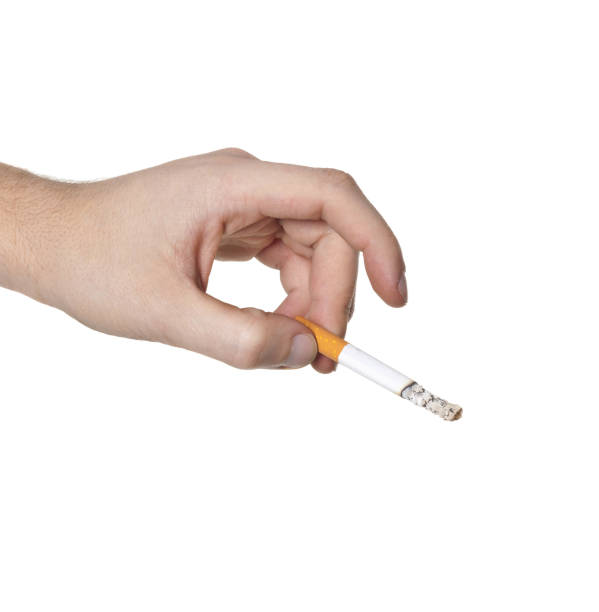cigarette: (294, 316, 467, 423)
